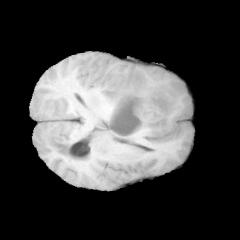glioma: (101, 68, 176, 137)
